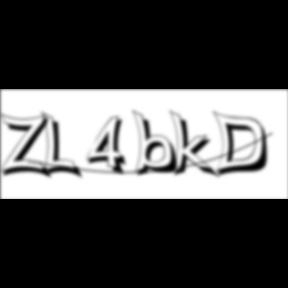4: (86, 115, 134, 179)
D: (212, 110, 276, 180)
L: (41, 110, 85, 182)
Z: (1, 112, 55, 181)
b: (132, 109, 184, 179)
k: (170, 108, 222, 181)
